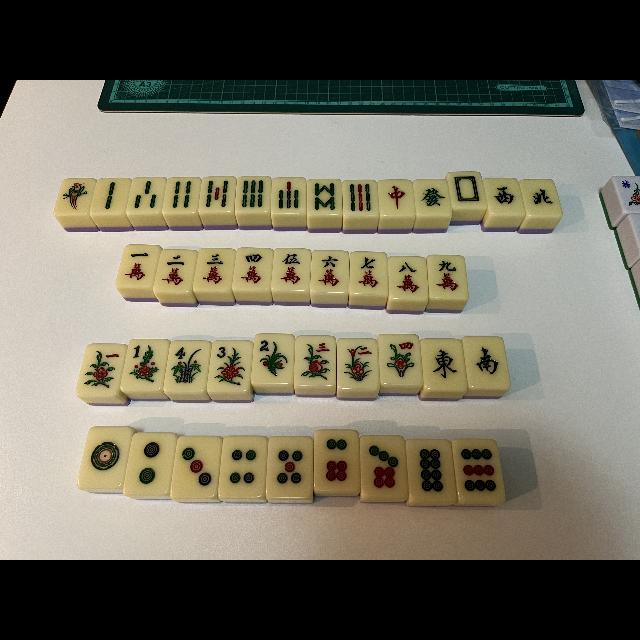b1: (54, 178, 92, 214)
b2: (92, 179, 126, 213)
b3: (128, 178, 164, 212)
b4: (164, 178, 198, 212)
b5: (200, 176, 234, 212)
b6: (237, 176, 270, 212)
b7: (272, 177, 306, 213)
b8: (308, 180, 342, 214)
b9: (343, 180, 379, 216)
c1: (117, 245, 155, 287)
c2: (156, 250, 192, 290)
c3: (194, 248, 232, 290)
c4: (233, 248, 271, 290)
c5: (273, 248, 311, 290)
c6: (311, 250, 349, 292)
c7: (350, 252, 388, 294)
c8: (388, 256, 428, 298)
c9: (428, 255, 467, 299)
d1: (79, 427, 125, 487)
d2: (126, 434, 172, 494)
d3: (173, 437, 219, 497)
d4: (220, 437, 264, 498)
d5: (266, 437, 312, 499)
d6: (314, 431, 360, 492)
d7: (360, 435, 406, 497)
d8: (407, 440, 455, 502)
d9: (453, 440, 505, 502)
dg: (416, 180, 450, 216)
dr: (379, 180, 415, 216)
dw: (449, 172, 485, 208)
f1-s: (122, 339, 166, 389)
f2-s: (253, 334, 293, 384)
f3-s: (208, 341, 250, 391)
f4-s: (165, 341, 208, 391)
s1-s: (76, 343, 122, 393)
s2-s: (338, 339, 378, 389)
s3-s: (296, 336, 336, 386)
s4-s: (380, 334, 422, 384)
we: (420, 339, 466, 389)
wn: (521, 180, 561, 216)
ws: (464, 337, 511, 388)
ww: (484, 178, 524, 214)
